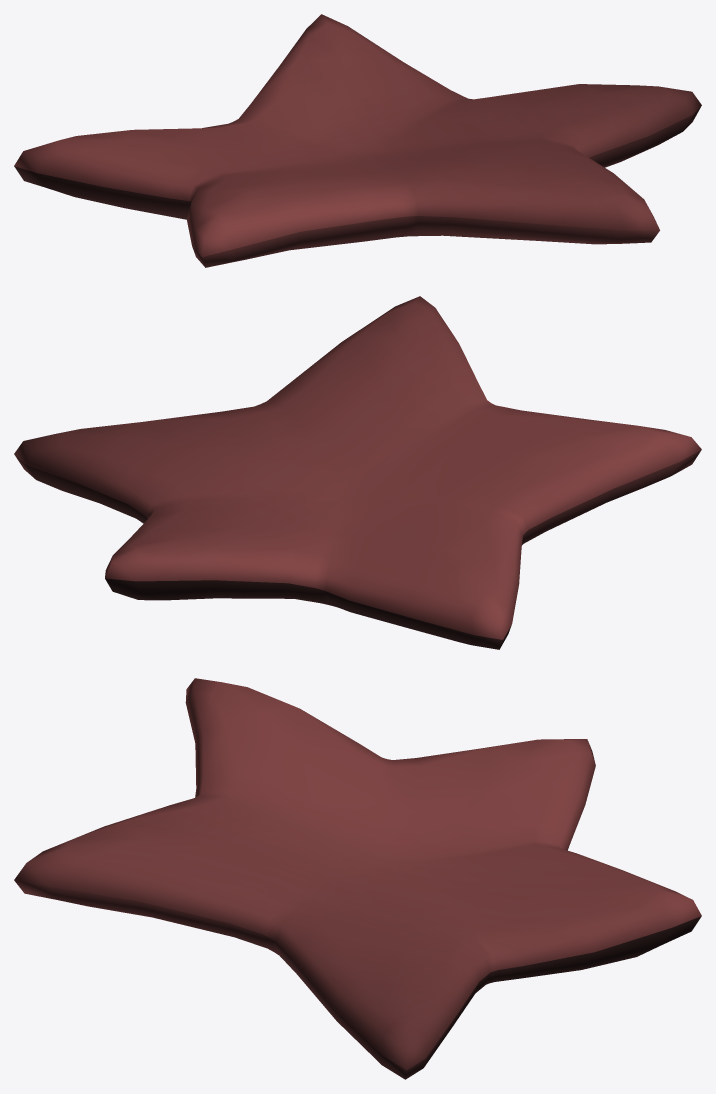
File: star.glb
3 views of the same model, one above another, from view 1: azimuth 30°, elevation 25°; view 2: azimuth 150°, elevation 25°; view 3: azimuth 270°, elevation 25° (orthographic). The views are drawn at different scales.
Visible parts, largest first — view 1: cc_star7; view 2: cc_star7; view 3: cc_star7.
Part boxes in pixels (bbox=[...]): cc_star7: bbox=[14, 14, 701, 267]; cc_star7: bbox=[14, 296, 701, 649]; cc_star7: bbox=[14, 678, 701, 1079].
Bounding box in the file's own units: 0.0832 × 0.0161 × 0.0794.
Materials: 1 (1 with a texture image).
